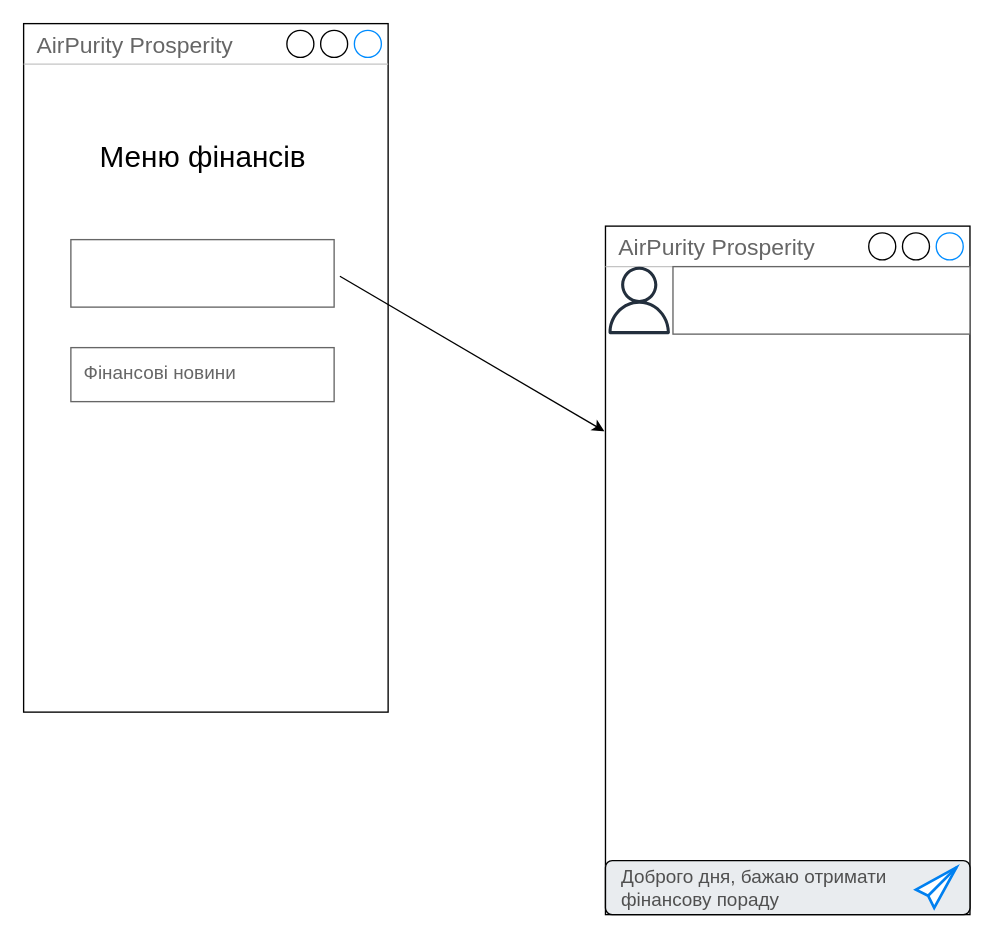
The diagram is 994 pixels wide and 938 high, and some of its shapes have lost their labels. Here are the shapes that lost their labels. From the top down, the centre of each, then its label:
point (202, 272): Написати фінансовий раднику
point (821, 299): Фінансовий радник
